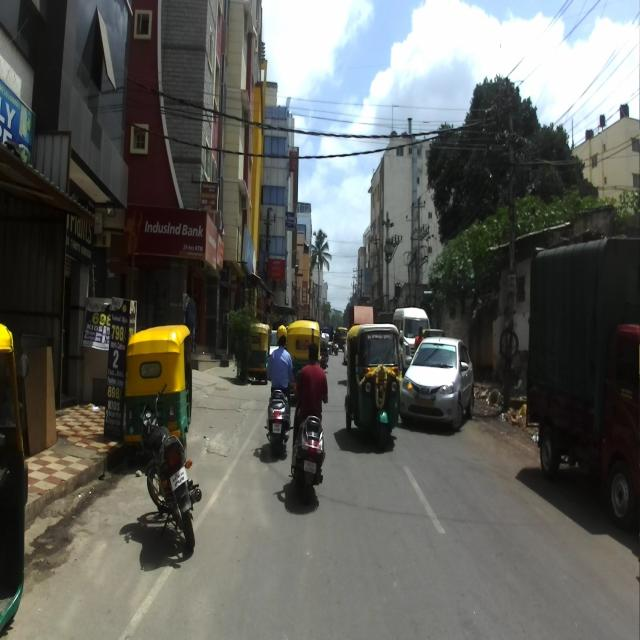autorickshaw: (124, 324, 195, 467), (344, 323, 403, 452)
car: (399, 336, 475, 432)
motorcycle: (140, 381, 202, 550)
scooter: (288, 366, 328, 506), (264, 355, 297, 458)
truck: (525, 236, 640, 528)
